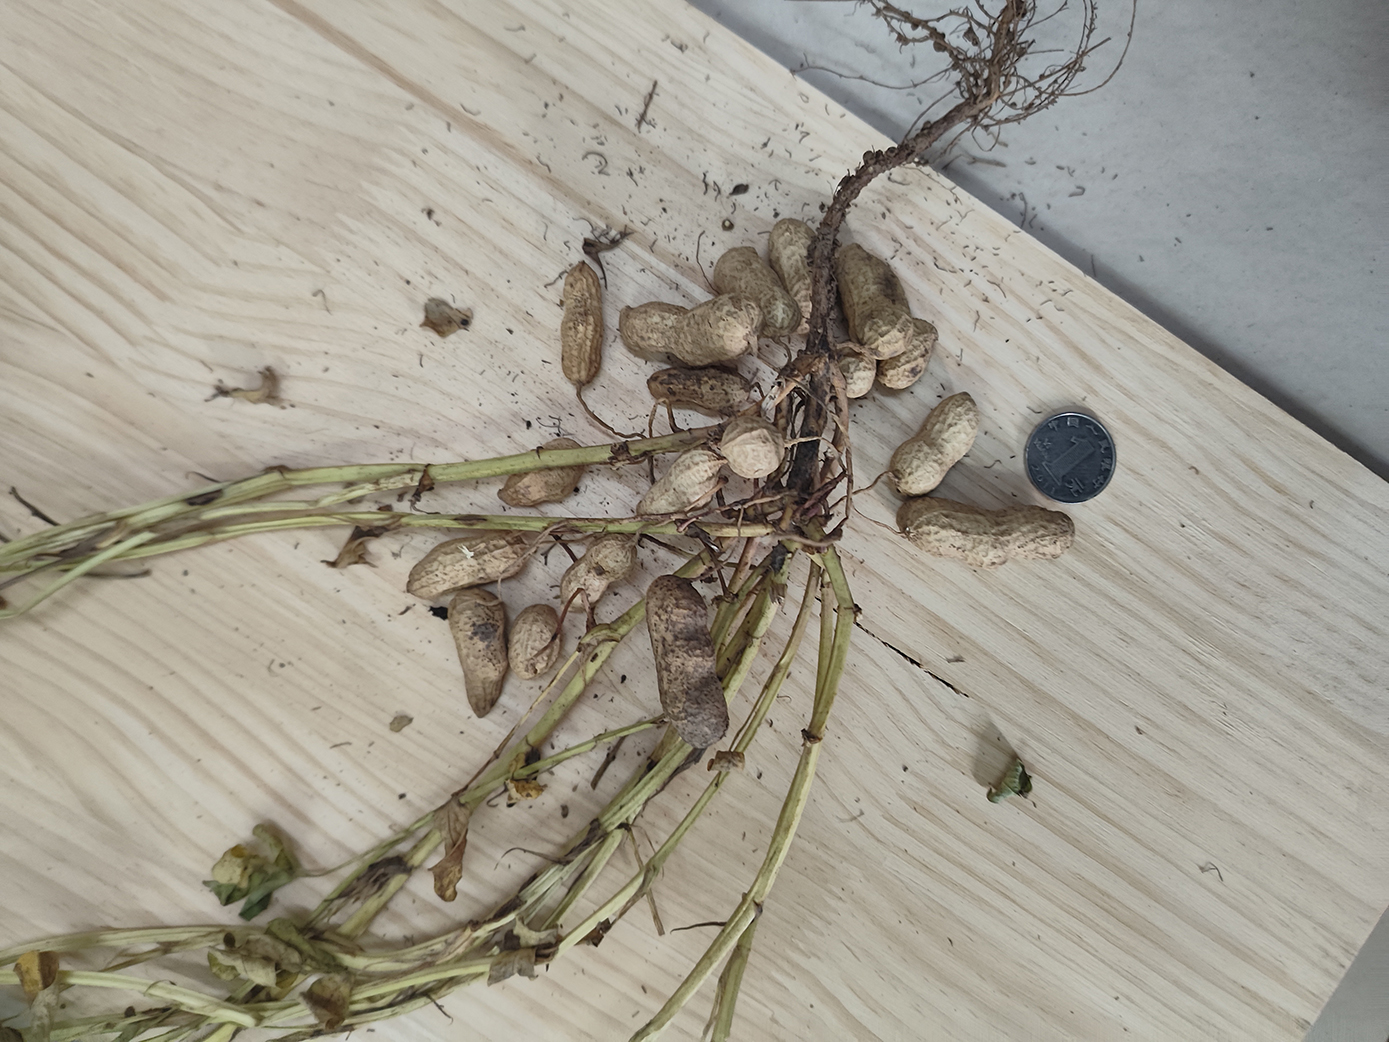h: (898, 498, 1078, 567), (620, 294, 761, 370), (833, 242, 914, 360), (888, 391, 979, 495), (405, 531, 529, 598), (713, 247, 800, 341), (448, 587, 507, 719), (768, 218, 835, 321), (497, 437, 584, 509), (637, 448, 724, 518), (560, 260, 606, 389), (562, 533, 636, 607), (647, 369, 753, 414), (876, 319, 937, 392), (509, 605, 559, 680), (722, 422, 784, 481), (824, 341, 876, 400)
l: (646, 575, 731, 749)
